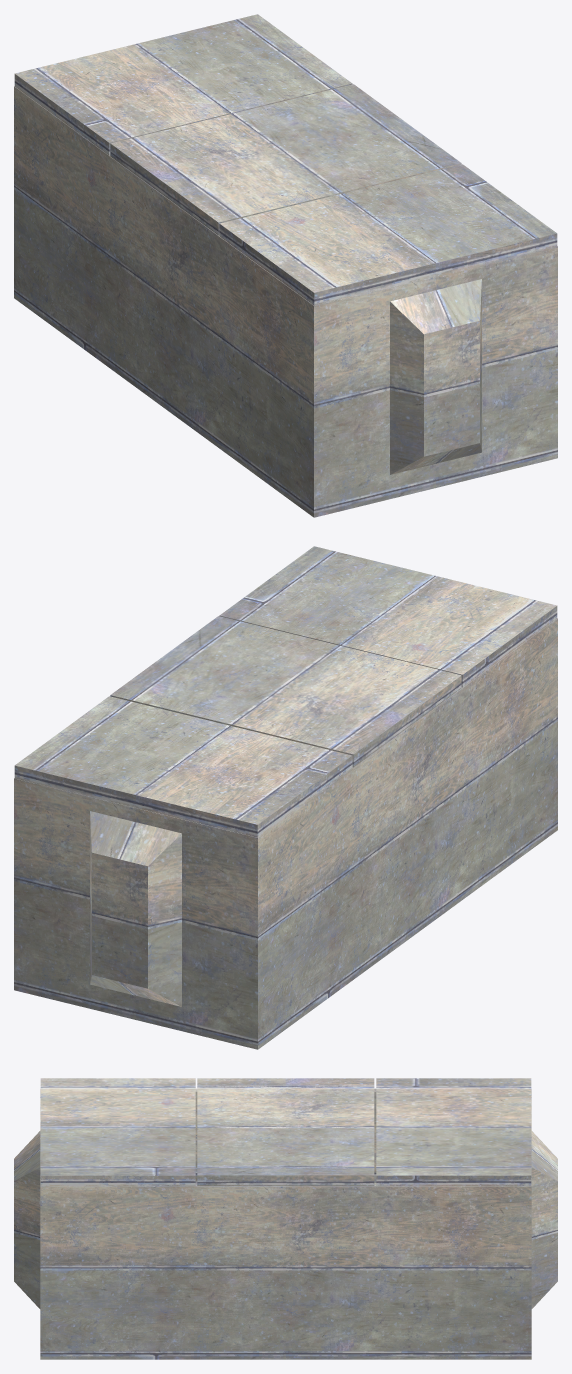
Rendered from crate.fbx.
The picture shows the model from 3 angles, top to bottom: view 1: azimuth 30°, elevation 25°; view 2: azimuth 150°, elevation 25°; view 3: azimuth 270°, elevation 25°; orthographic projection. The views are drawn at different scales.
Parts seen in each view (by area): view 1: Meshescrate11, Meshescrate21; view 2: Meshescrate11, Meshescrate21; view 3: Meshescrate11, Meshescrate21.
Boxes of the visible parts, x1,y1,x2,y2 form: Meshescrate11: (14, 14, 557, 517); Meshescrate21: (110, 84, 461, 235); Meshescrate11: (14, 546, 557, 1049); Meshescrate21: (110, 616, 461, 767); Meshescrate11: (14, 1078, 557, 1359); Meshescrate21: (197, 1078, 374, 1185).
Size of the model in its own units: 243 by 214 by 573.
1 material, 1 textured.
